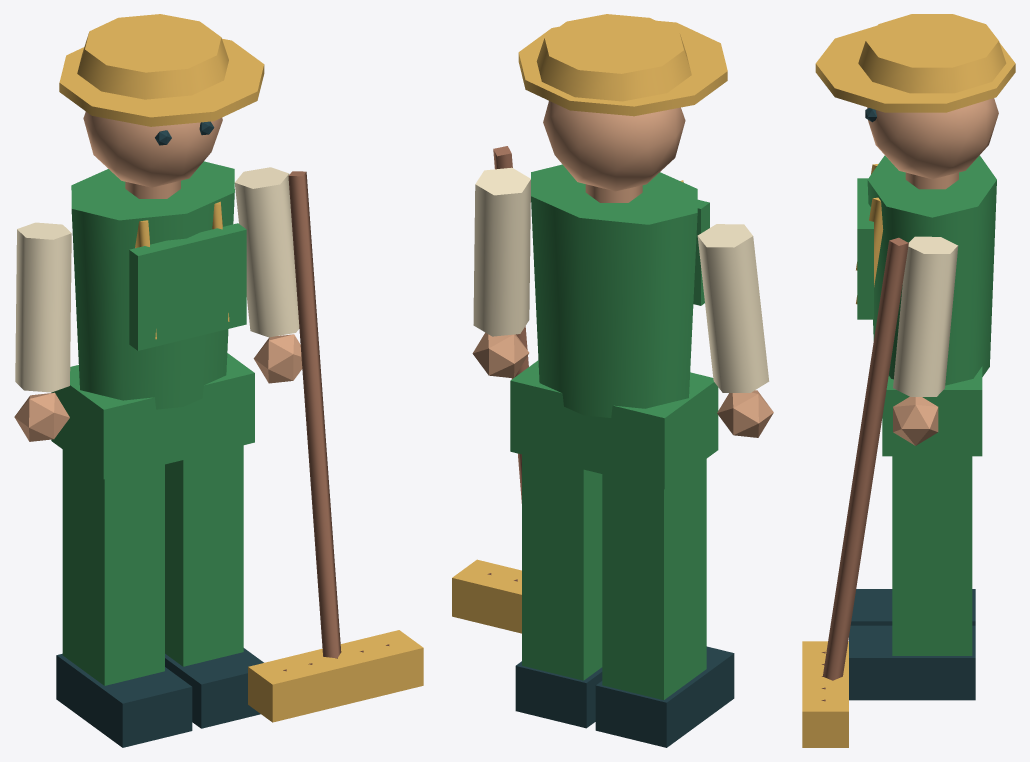
File: staff_handyman.glb
3 views of the same model, side by side, from view 1: azimuth 30°, elevation 25°; view 2: azimuth 150°, elevation 25°; view 3: azimuth 270°, elevation 25° (orthographic). The views are drawn at different scales.
Parts seen in each view (by area): view 1: staff_handyman; view 2: staff_handyman; view 3: staff_handyman.
Part boxes in pixels (x1,y1,x2,y2): staff_handyman: [14, 14, 423, 747]; staff_handyman: [452, 14, 773, 747]; staff_handyman: [802, 14, 1015, 747].
Bounding box in the file's own units: 1.13 × 2.07 × 0.64.
